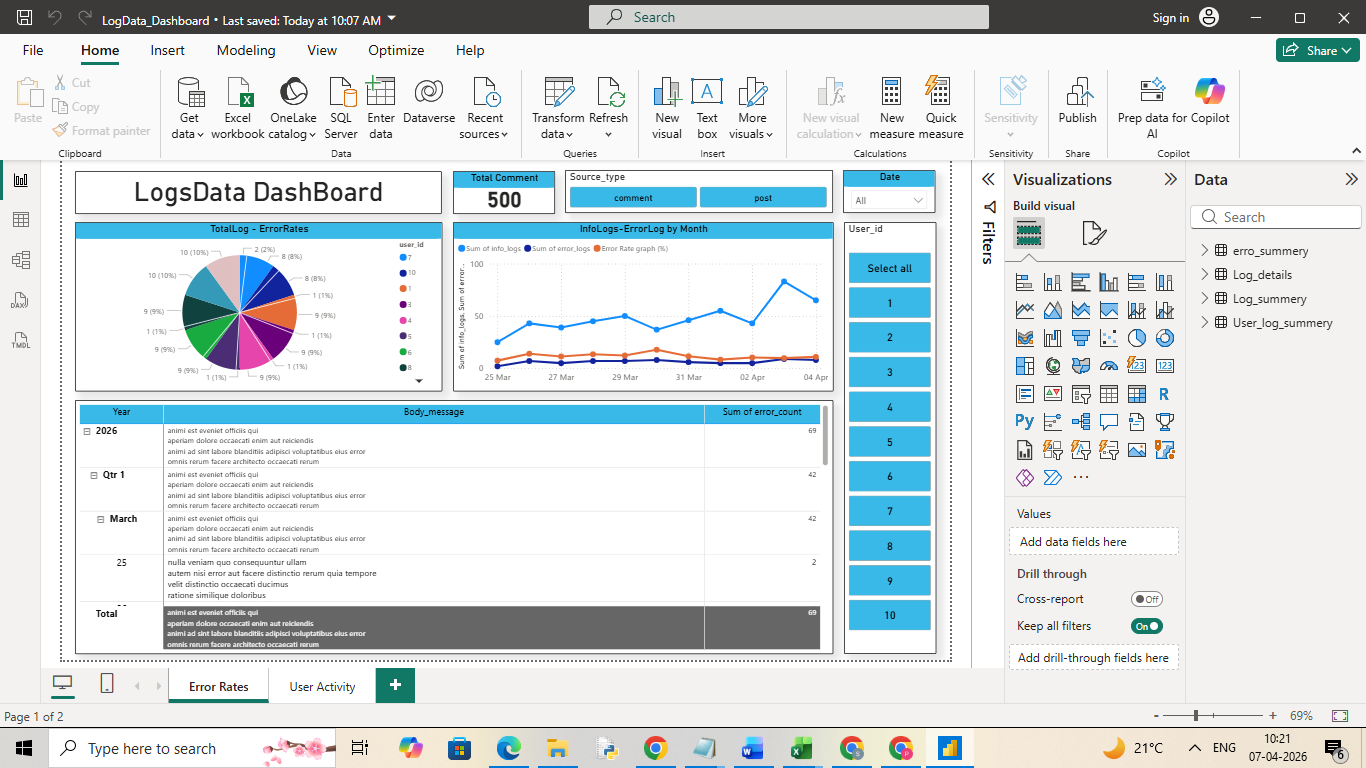

What the dashboard file says about the page in this screenshot:
{"tool":"powerbi","page":{"name":"Error Rates","canvas":[1280,720],"ordinal":0},"visuals":[{"type":"advancedSlicerVisual","title":"Source_type","fields":{"Values":["Log_details.source_type"]},"box":[724.3,14.4,385.9,61.9],"z":0},{"type":"pieChart","title":"TotalLog - ErrorRates","fields":{"Category":["User_log_summery.user_id"],"Y":["Sum(User_log_summery.error_logs)","Sum(User_log_summery.info_logs)"]},"box":[18.5,89,529.1,243.6],"z":1000},{"type":"lineChart","title":"InfoLogs-ErrorLog by Month","fields":{"Y":["Sum(Log_summery.info_logs)","Sum(Log_summery.error_logs)","Log_details.Error Rate graph (%)"],"Category":["Log_summery.log_date.Variation.Date Hierarchy.Year","Log_summery.log_date.Variation.Date Hierarchy.Quarter","Log_summery.log_date.Variation.Date Hierarchy.Month","Log_summery.log_date.Variation.Date Hierarchy.Day"]},"box":[562.7,89,547.6,243.6],"z":2000},{"type":"advancedSlicerVisual","title":"User_id","fields":{"Values":["User_log_summery.user_id"]},"box":[1125.5,89,132.7,621.5],"z":3000},{"type":"pivotTable","fields":{"Rows":["erro_summery.log_date.Variation.Date Hierarchy.Year","erro_summery.log_date.Variation.Date Hierarchy.Quarter","erro_summery.log_date.Variation.Date Hierarchy.Month","erro_summery.log_date.Variation.Date Hierarchy.Day"],"Values":["Min(erro_summery.body_clean)","Sum(erro_summery.error_count)"]},"box":[18.5,346,1091.9,366.2],"z":4000},{"type":"slicer","title":"Date","fields":{"Values":["Log_summery.log_date"]},"box":[1125,15,133.3,61.7],"z":5000},{"type":"card","title":"Total Comment","fields":{"Values":["Log_details.comment Per User"]},"box":[563,15.8,146.9,61.9],"z":6000},{"type":"textbox","box":[18.7,15.8,528.5,61.9],"z":7000}]}

Visuals, with their boxes on the page's 1280x720 design canvas (x1, y1, x2, y2). These are canvas units, not pixel positions in the 1366x768 screenshot, which may show the page scaled, cropped or inside an application window:
"Source_type" advancedSlicerVisual: select_region(724, 14, 1110, 76)
"TotalLog - ErrorRates" pieChart: select_region(18, 89, 548, 333)
"InfoLogs-ErrorLog by Month" lineChart: select_region(563, 89, 1110, 333)
"User_id" advancedSlicerVisual: select_region(1126, 89, 1258, 710)
pivotTable - erro_summery.log_date.Variation.Date Hierarchy.Year x erro_summery.log_date.Variation.Date Hierarchy.Quarter: select_region(18, 346, 1110, 712)
"Date" slicer: select_region(1125, 15, 1258, 77)
"Total Comment" card: select_region(563, 16, 710, 78)
textbox: select_region(19, 16, 547, 78)
